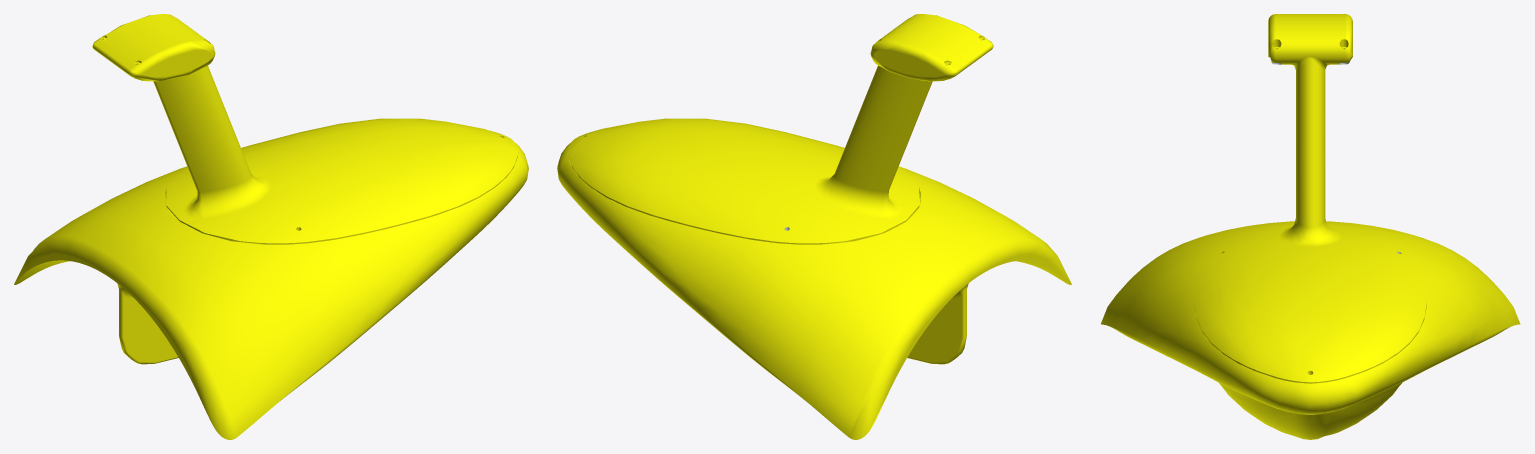
File: asm0001.obj
3 views of the same model, side by side, from view 1: azimuth 30°, elevation 25°; view 2: azimuth 150°, elevation 25°; view 3: azimuth 270°, elevation 25° (orthographic).
Visible parts, largest first — view 1: 116, 87, 117, 85, 1; view 2: 116, 87, 81, 117, 115, 1; view 3: 87, 116, 117, 77, 3, 81.
Boxes of the visible parts, x1=… form: 116: x1=14, y1=143, x2=528, y2=439; 87: x1=165, y1=67, x2=518, y2=244; 117: x1=92, y1=14, x2=215, y2=75; 85: x1=155, y1=80, x2=214, y2=201; 1: x1=92, y1=46, x2=213, y2=80; 116: x1=557, y1=143, x2=1071, y2=439; 87: x1=567, y1=118, x2=920, y2=244; 81: x1=831, y1=66, x2=932, y2=201; 117: x1=870, y1=14, x2=993, y2=75; 115: x1=819, y1=76, x2=950, y2=209; 1: x1=872, y1=46, x2=993, y2=76; 87: x1=1194, y1=65, x2=1426, y2=381; 116: x1=1101, y1=221, x2=1520, y2=439; 117: x1=1268, y1=14, x2=1352, y2=58; 77: x1=1300, y1=60, x2=1326, y2=239; 3: x1=1275, y1=57, x2=1350, y2=227; 81: x1=1320, y1=68, x2=1327, y2=233.
Size of the model in its own units: 299 by 231 by 270.
